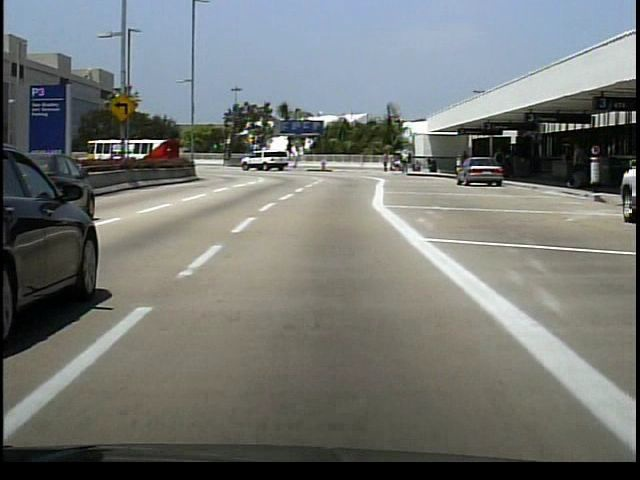person: (568, 137, 590, 193), (493, 145, 509, 183), (401, 147, 411, 176), (382, 149, 391, 172), (388, 150, 396, 174)
